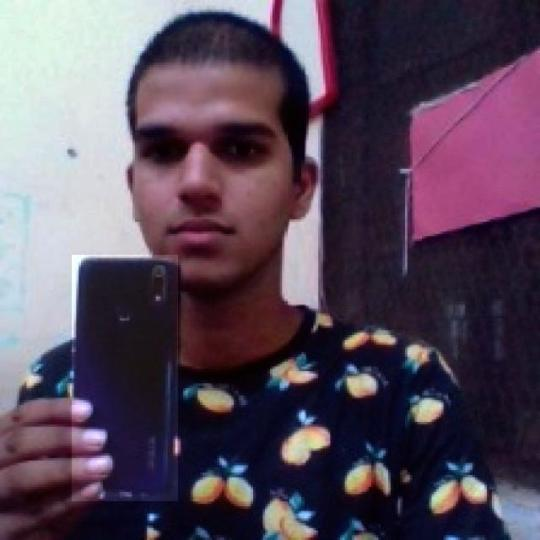phone: (73, 254, 180, 503)
